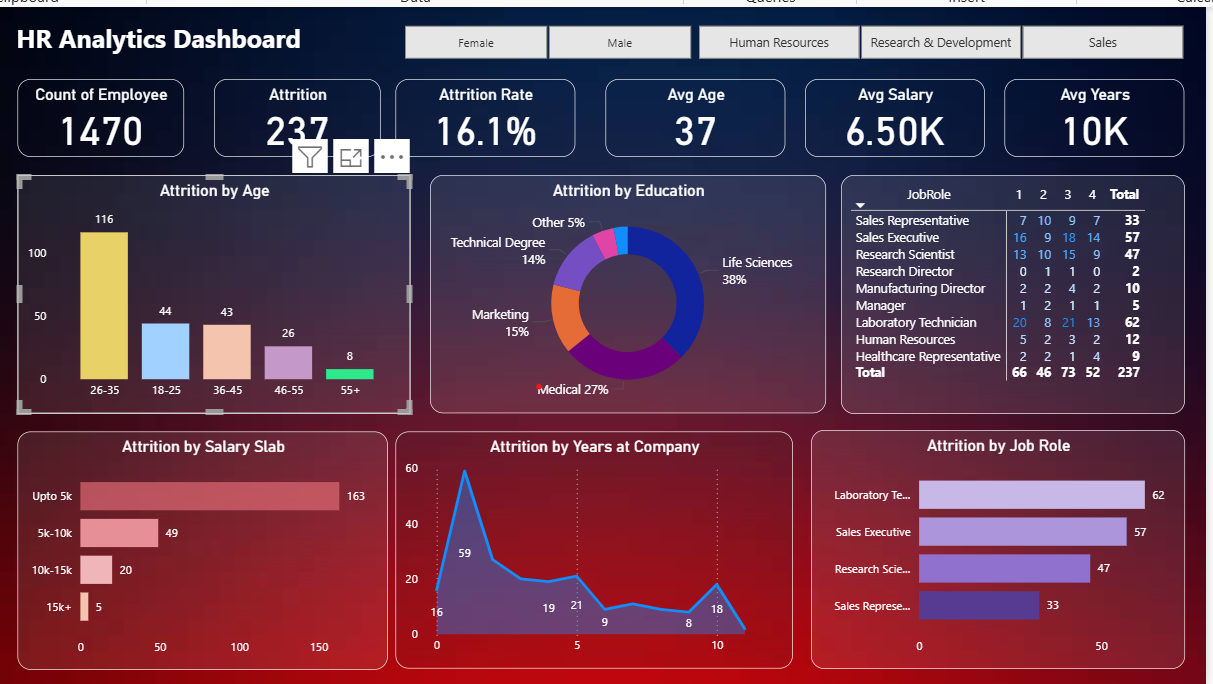

The dashboard page shown, as its layout file describes it:
{"tool":"powerbi","page":{"name":"Page 1","canvas":[1280,720],"ordinal":0},"visuals":[{"type":"card","title":"Count of Employee","fields":{"Values":["Sum(HR_Analytics.EmployeeCount)"]},"box":[20.7,76.3,176.6,82.7],"z":0},{"type":"card","title":"Attrition Rate","fields":{"Values":["HR_Analytics.Attrition Rate"]},"box":[421.5,76.3,190.9,82.7],"z":1000},{"type":"card","title":"Attrition","fields":{"Values":["Sum(HR_Analytics.AttritionCount)"]},"box":[229,76.3,176.6,82.7],"z":2000},{"type":"card","title":"Avg Years","fields":{"Values":["Sum(HR_Analytics.YearsAtCompany)"]},"box":[1067.3,76.3,190.9,82.7],"z":3000},{"type":"card","title":"Avg Salary","fields":{"Values":["Avg(HR_Analytics.MonthlyIncome)"]},"box":[855.7,76.3,190.9,82.7],"z":4000},{"type":"card","title":"Avg Age","fields":{"Values":["Avg(HR_Analytics.Age)"]},"box":[644.2,76.3,190.9,82.7],"z":5000},{"type":"donutChart","title":"Attrition by Education","fields":{"Category":["HR_Analytics.EducationField"],"Y":["Sum(HR_Analytics.AttritionCount)"]},"box":[458.1,178.1,419.9,252.9],"z":6000},{"type":"columnChart","title":"Attrition by  Age ","fields":{"Category":["HR_Analytics.AgeGroup"],"Y":["Sum(HR_Analytics.AttritionCount)"]},"box":[20.7,178.1,416.7,252.9],"z":7000},{"type":"pivotTable","fields":{"Columns":["HR_Analytics.JobSatisfaction"],"Rows":["HR_Analytics.JobRole"],"Values":["Sum(HR_Analytics.AttritionCount)"]},"box":[893.9,177.6,364.7,253.2],"z":8000},{"type":"barChart","title":"Attrition by  Salary Slab ","fields":{"Category":["HR_Analytics.SalarySlab"],"Y":["Sum(HR_Analytics.AttritionCount)"]},"box":[20.7,450.1,392.9,252.9],"z":9000},{"type":"barChart","title":"Attrition by Job Role","fields":{"Category":["HR_Analytics.JobRole"],"Y":["Sum(HR_Analytics.AttritionCount)"]},"box":[861.7,447.9,396.9,253.2],"z":10000},{"type":"stackedAreaChart","title":"Attrition by  Years at Company","fields":{"Category":["HR_Analytics.YearsAtCompany"],"Y":["Sum(HR_Analytics.AttritionCount)"]},"box":[421.4,449.8,421.4,251.3],"z":11000},{"type":"slicer","fields":{"Values":["HR_Analytics.Department"]},"box":[717.4,12.7,563.1,49.3],"z":12000},{"type":"textbox","box":[14.3,9.5,377,52.5],"z":13000},{"type":"slicer","fields":{"Values":["HR_Analytics.Department"]},"box":[716.9,12.7,563.1,49.3],"z":13001},{"type":"slicer","fields":{"Values":["HR_Analytics.Gender"]},"box":[405.6,12.7,353.1,49.3],"z":13002}]}

Visuals, with their boxes on the page's 1280x720 design canvas (x1, y1, x2, y2). These are canvas units, not pixel positions in the 1213x684 screenshot, which may show the page scaled, cropped or inside an application window:
"Count of Employee" card: (left=21, top=76, right=197, bottom=159)
"Attrition Rate" card: (left=422, top=76, right=612, bottom=159)
"Attrition" card: (left=229, top=76, right=406, bottom=159)
"Avg Years" card: (left=1067, top=76, right=1258, bottom=159)
"Avg Salary" card: (left=856, top=76, right=1047, bottom=159)
"Avg Age" card: (left=644, top=76, right=835, bottom=159)
"Attrition by Education" donutChart: (left=458, top=178, right=878, bottom=431)
"Attrition by  Age " columnChart: (left=21, top=178, right=437, bottom=431)
pivotTable - HR_Analytics.JobSatisfaction x HR_Analytics.JobRole: (left=894, top=178, right=1259, bottom=431)
"Attrition by  Salary Slab " barChart: (left=21, top=450, right=414, bottom=703)
"Attrition by Job Role" barChart: (left=862, top=448, right=1259, bottom=701)
"Attrition by  Years at Company" stackedAreaChart: (left=421, top=450, right=843, bottom=701)
slicer - HR_Analytics.Department: (left=717, top=13, right=1280, bottom=62)
textbox: (left=14, top=10, right=391, bottom=62)
slicer - HR_Analytics.Department: (left=717, top=13, right=1280, bottom=62)
slicer - HR_Analytics.Gender: (left=406, top=13, right=759, bottom=62)
